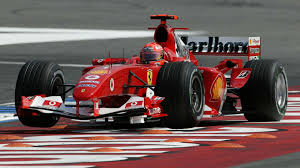FormulaOneCar: (13, 11, 291, 130)
